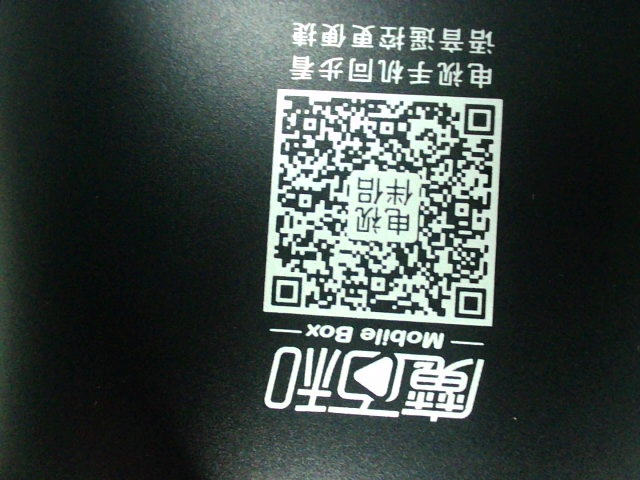AZ_MobileBox: (260, 22, 512, 424)
